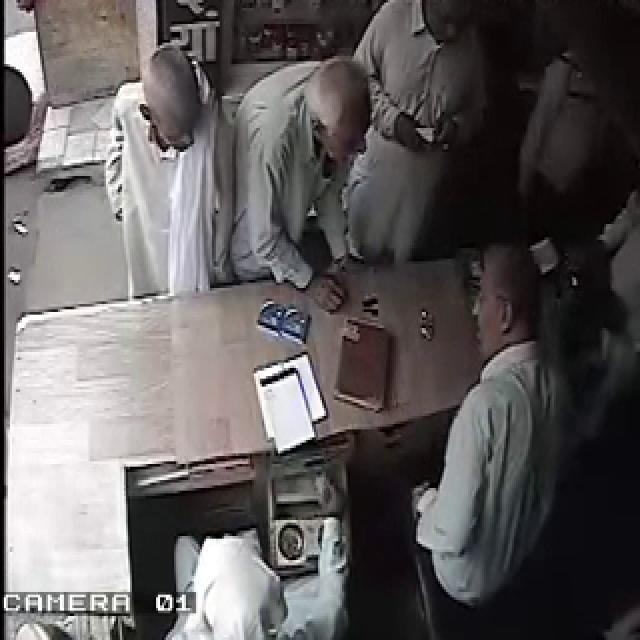shoplifting: (73, 90, 477, 525)
